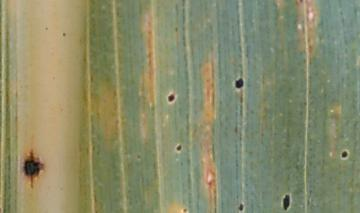tarspot: (23, 158, 44, 177), (282, 193, 291, 213), (234, 78, 244, 89), (167, 92, 176, 103), (340, 150, 349, 160), (175, 142, 182, 152), (238, 203, 245, 213), (182, 207, 187, 213)
